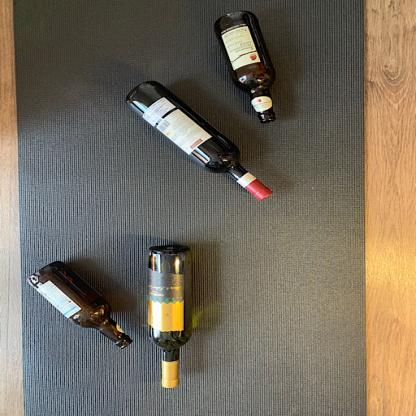trash: (123, 80, 274, 204), (27, 260, 136, 350), (144, 244, 199, 389), (212, 11, 278, 126)
